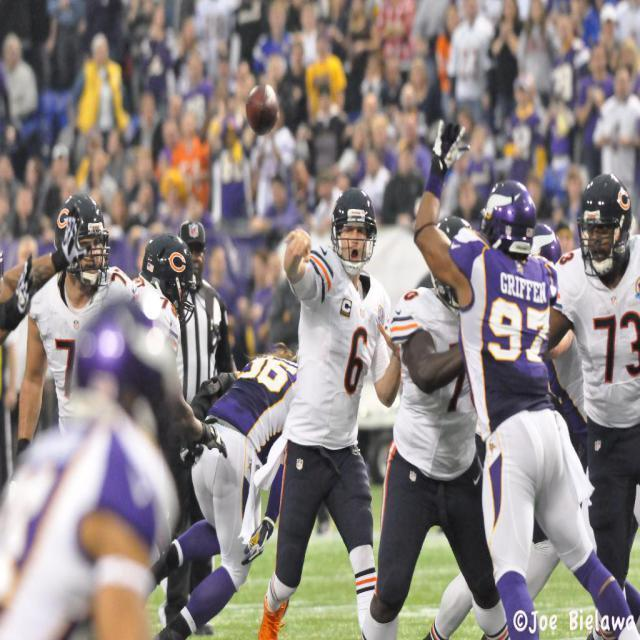ball: (243, 83, 280, 138)
